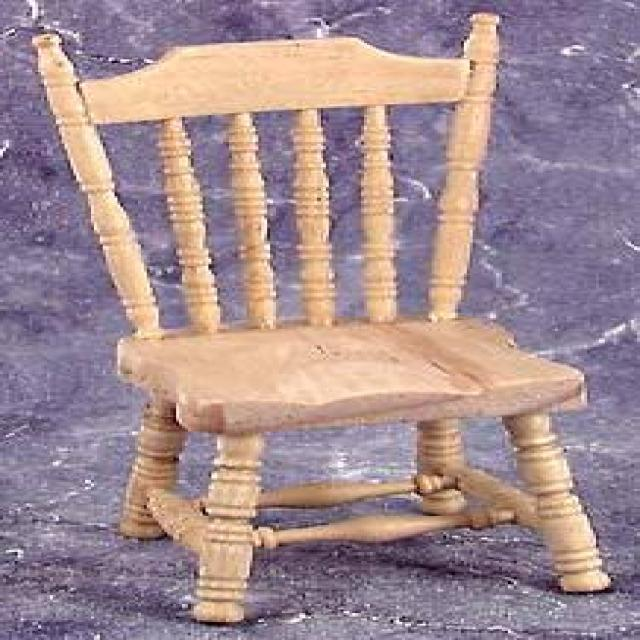chair: (29, 13, 618, 631)
